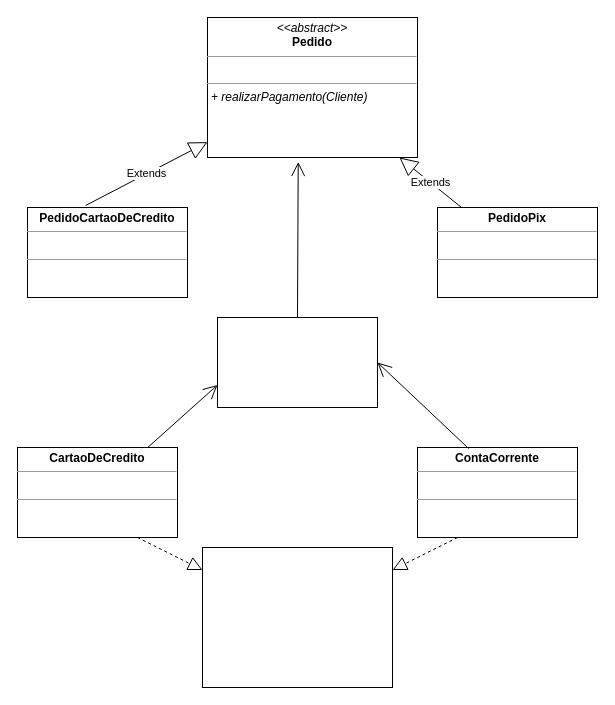
Image size: 615x705. Some labels were removed from this diagram. The shapes that lost their labels are listed below. From the top down, each one's centre as x and y in pixels, then its label:
(x=297, y=362): Cliente
(x=297, y=617): <<Interface>> CanalPagamento
